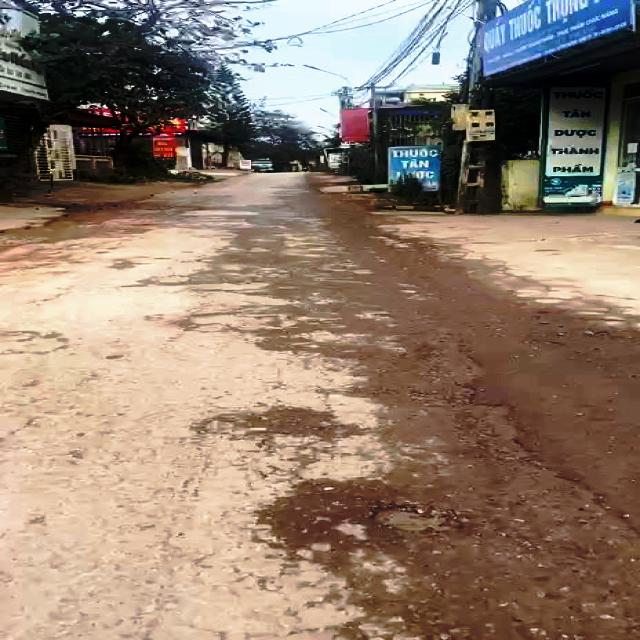pothole: (461, 359, 578, 475), (363, 491, 466, 545)
